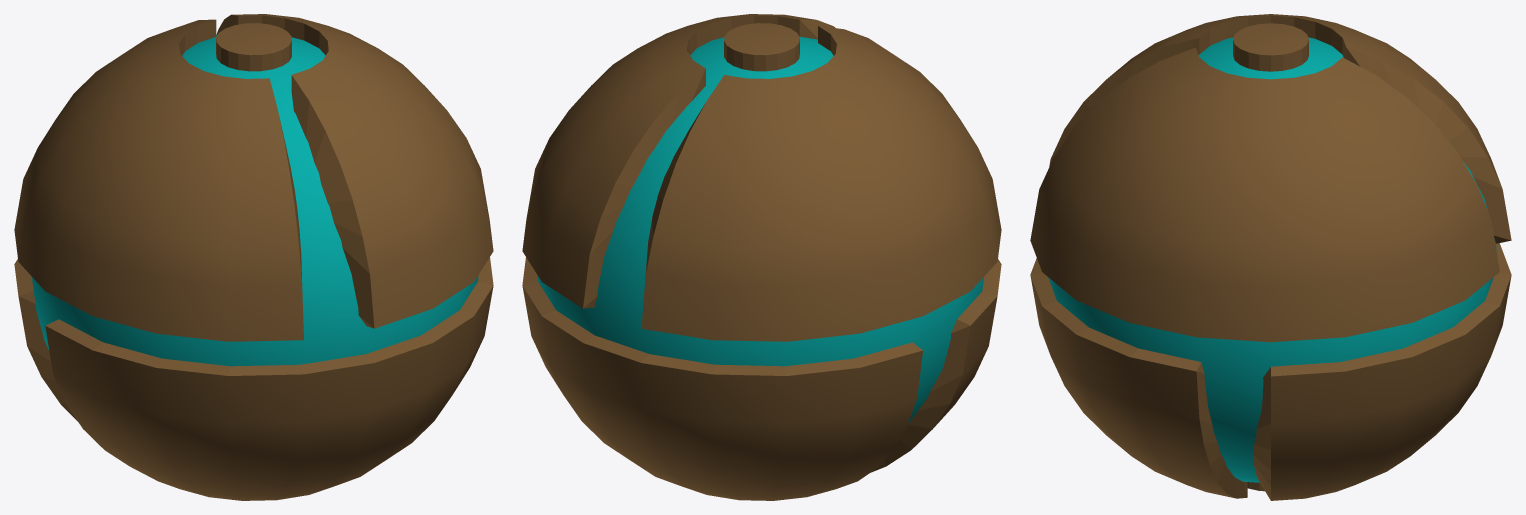
Rendered from orb.fbx.
3 renders of one model, left to right at view 1: azimuth 30°, elevation 25°; view 2: azimuth 150°, elevation 25°; view 3: azimuth 270°, elevation 25°, orthographic.
Parts seen in each view (by area): view 1: pSphere3; view 2: pSphere3; view 3: pSphere3.
Part boxes in pixels (x1,y1,x2,y2): pSphere3: (14, 14, 493, 500); pSphere3: (522, 14, 1001, 500); pSphere3: (1030, 14, 1511, 500).
Size of the model in its own units: 5.69 by 5.76 by 5.69.
